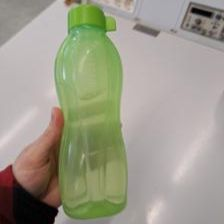bottle: (55, 4, 131, 220)
